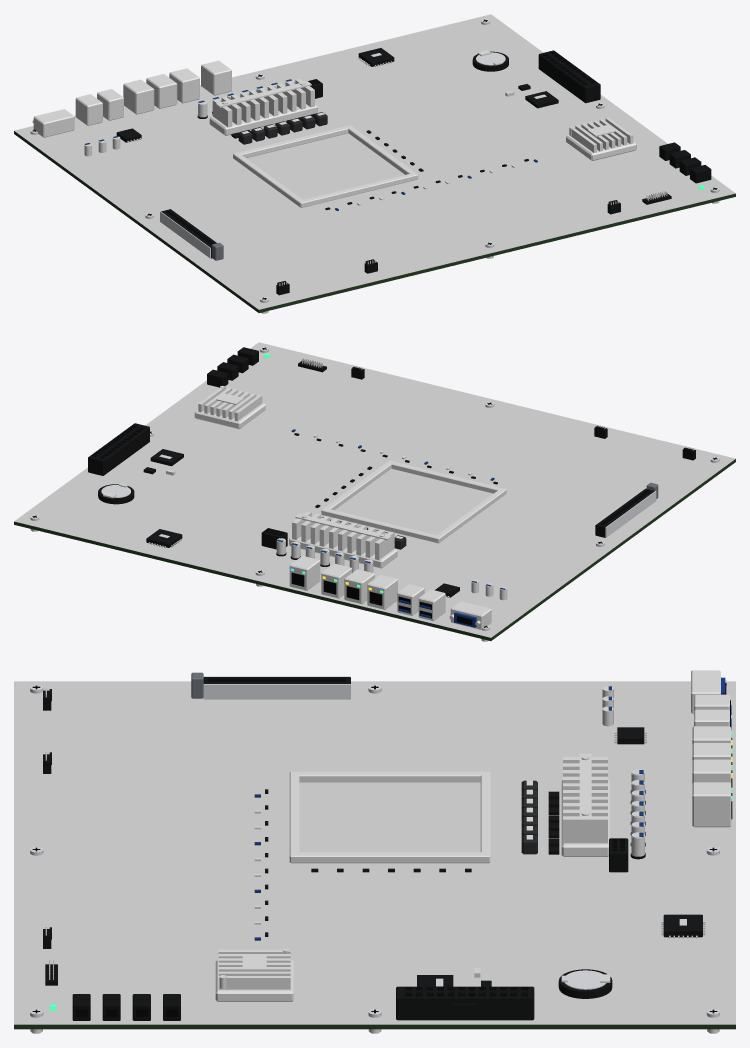
Rendered from asm_mainboard.glb.
The picture shows the model from 3 angles, top to bottom: view 1: azimuth 30°, elevation 25°; view 2: azimuth 150°, elevation 25°; view 3: azimuth 270°, elevation 25°; orthographic projection. The views are drawn at different scales.
Parts seen in each view (by area): view 1: Board; view 2: Board; view 3: Board.
Part boxes in pixels (x1,y1,x2,y2): Board: [14, 14, 735, 312]; Board: [14, 342, 735, 640]; Board: [14, 670, 735, 1029].
Size of the model in its own units: 0.54 by 0.0407 by 0.48.
